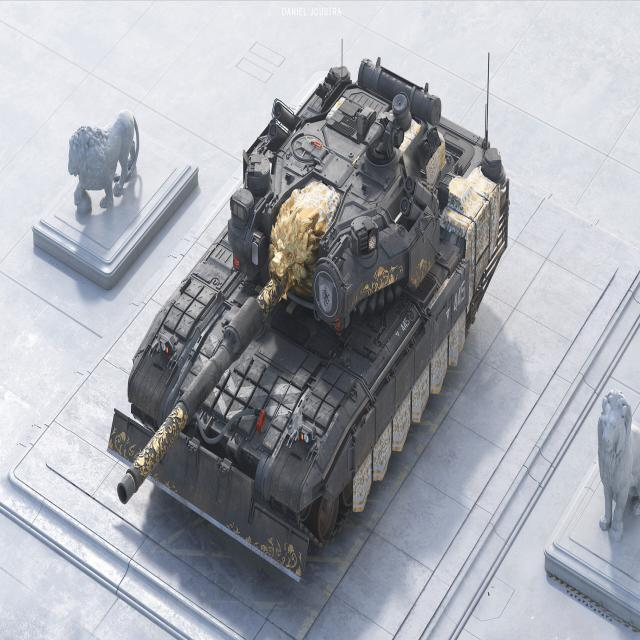Tanks: (108, 37, 504, 590)
